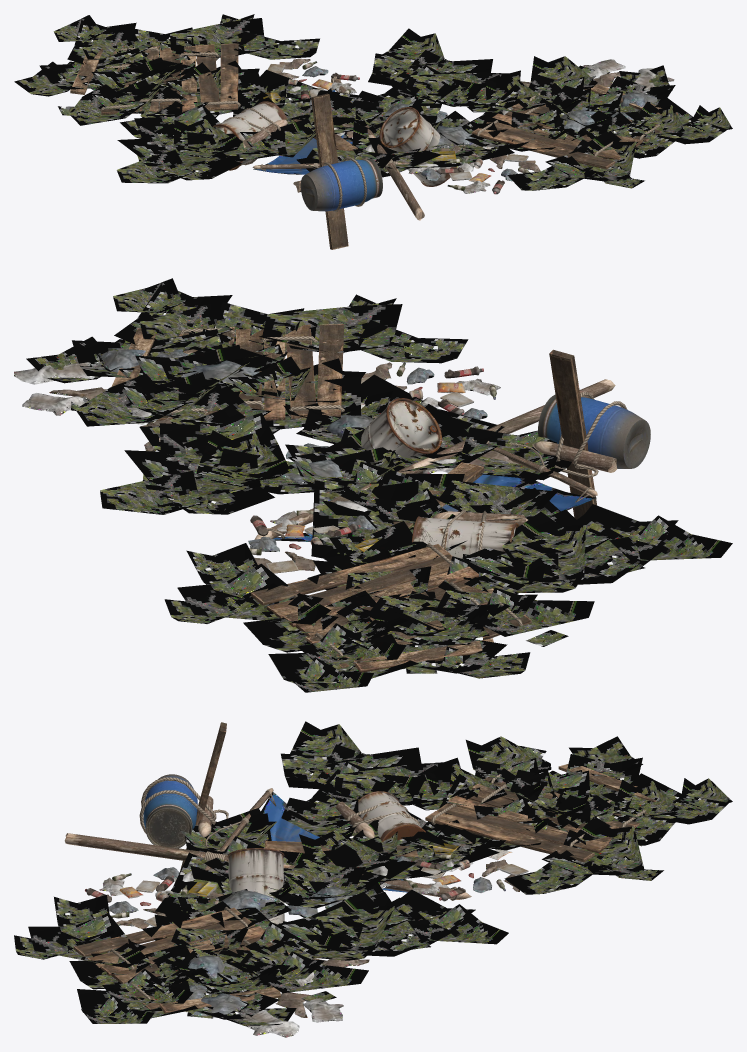
Rendered from water_junk_pile_c.glb.
3 views of the same model, one above another, from view 1: azimuth 30°, elevation 25°; view 2: azimuth 150°, elevation 25°; view 3: azimuth 270°, elevation 25° (orthographic). The views are drawn at different scales.
Parts seen in each view (by area): view 1: creeping_plant_a, creeping_plant_a (1), floating_sail_LOD0, floating_planks_LOD0 (×2), ground_junk_a (×2), ground_cloth_a (×2); view 2: creeping_plant_a, creeping_plant_a (1), floating_sail_LOD0, floating_planks_LOD0 (×2), ground_cloth_a (×2), ground_junk_a (×2); view 3: creeping_plant_a, creeping_plant_a (1), floating_sail_LOD0, floating_planks_LOD0 (×2), ground_cloth_a (×2), ground_junk_a (×2).
Boxes of the visible parts, left/top/right/bottom form: creeping_plant_a: left=14, top=14, right=442, bottom=183; creeping_plant_a (1): left=296, top=28, right=732, bottom=190; floating_sail_LOD0: left=213, top=76, right=457, bottom=249; floating_planks_LOD0 (×2): left=70, top=43, right=677, bottom=169; ground_junk_a (×2): left=249, top=58, right=540, bottom=194; ground_cloth_a (×2): left=334, top=59, right=674, bottom=173; creeping_plant_a: left=164, top=429, right=732, bottom=692; creeping_plant_a (1): left=26, top=278, right=571, bottom=514; floating_sail_LOD0: left=254, top=349, right=650, bottom=558; floating_planks_LOD0 (×2): left=111, top=324, right=531, bottom=672; ground_cloth_a (×2): left=14, top=349, right=518, bottom=511; ground_junk_a (×2): left=248, top=362, right=500, bottom=573; creeping_plant_a: left=267, top=721, right=732, bottom=908; creeping_plant_a (1): left=14, top=808, right=508, bottom=1025; floating_sail_LOD0: left=64, top=722, right=471, bottom=924; floating_planks_LOD0 (×2): left=73, top=764, right=656, bottom=1013; ground_cloth_a (×2): left=173, top=838, right=400, bottom=1037; ground_junk_a (×2): left=85, top=841, right=528, bottom=928.
Bounding box in the file's own units: 11.72 × 2.94 × 11.74.
Materials: 8 (8 with a texture image).
